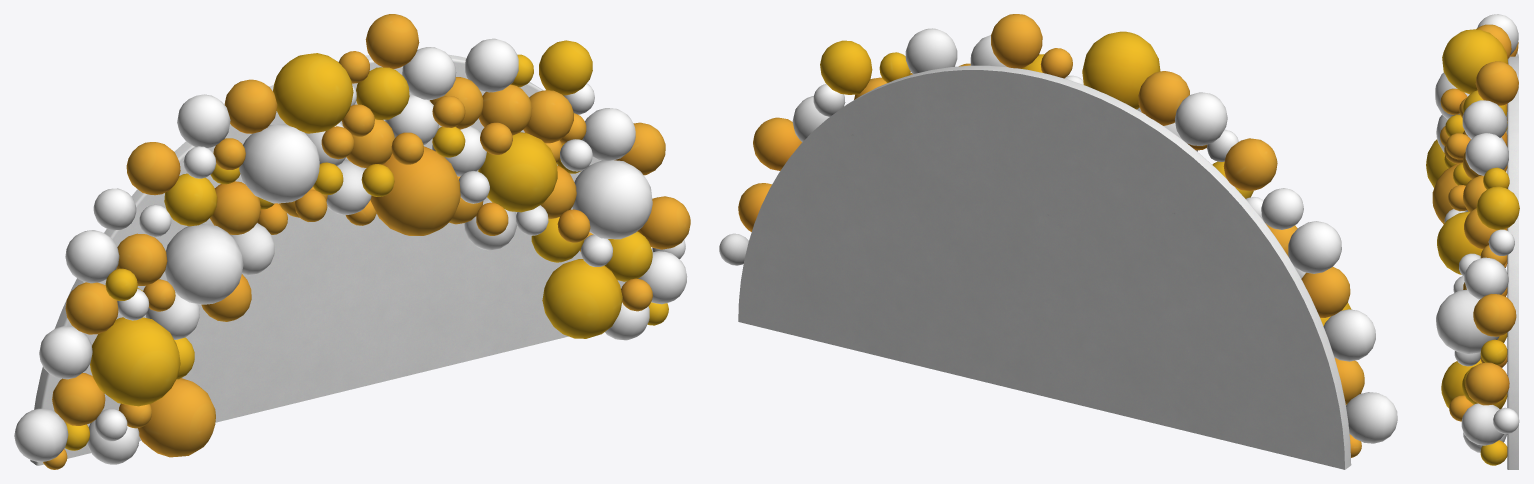
File: PartyBalloons03_GR7_2.FBX
3 renders of one model, left to right at view 1: azimuth 30°, elevation 25°; view 2: azimuth 150°, elevation 25°; view 3: azimuth 270°, elevation 25°, orthographic. The views are drawn at different scales.
Visible parts, largest first — view 1: PartyBalloons03_GR7_2; view 2: PartyBalloons03_GR7_2; view 3: PartyBalloons03_GR7_2.
Part boxes in pixels (left/top/right/bottom): PartyBalloons03_GR7_2: left=14, top=14, right=690, bottom=469; PartyBalloons03_GR7_2: left=719, top=14, right=1397, bottom=469; PartyBalloons03_GR7_2: left=1426, top=14, right=1519, bottom=469.
Size of what is drawn, in the model's own units: 5.46 by 2.85 by 0.8086.
